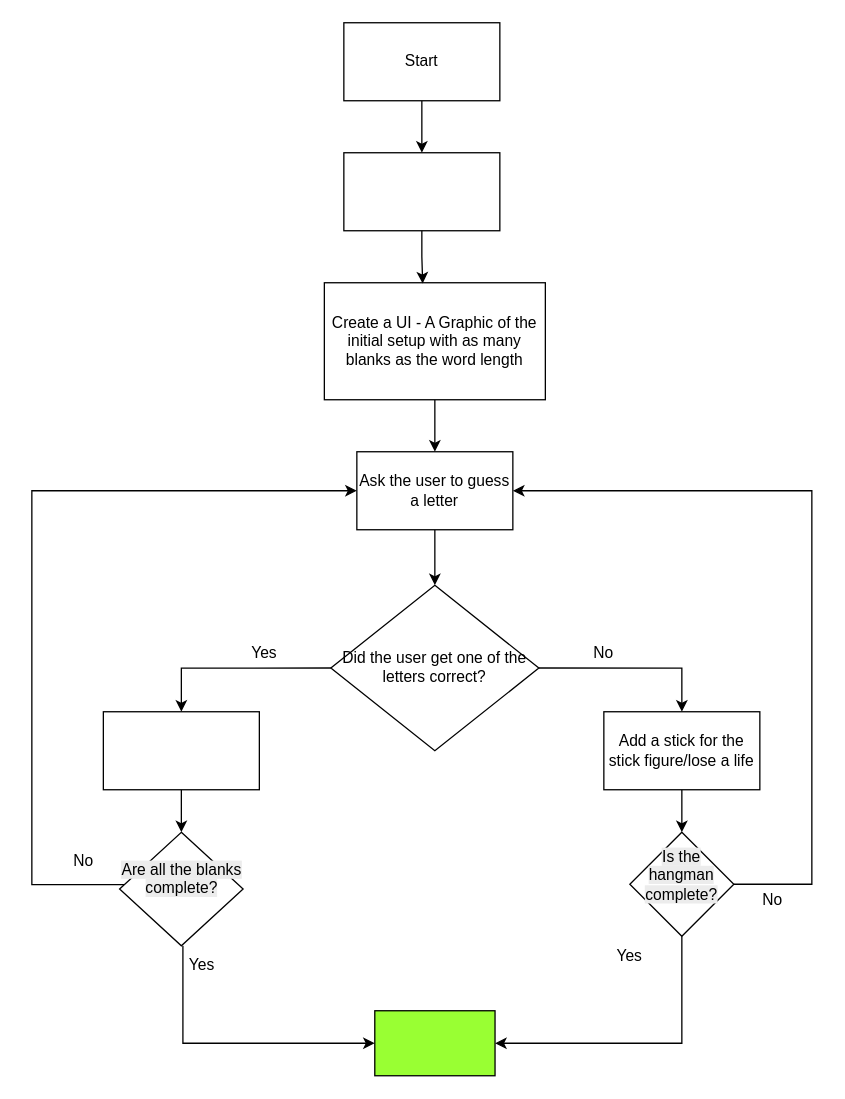
This 845x1099 diagram has some shape labels left out. Each missing label, with the centre of its shape:
"Game Over." goes at point 434,1042.
"Generate Random Word" goes at point 421,191.
"Replace the blank space with the letter guessed" goes at point 180,750.
